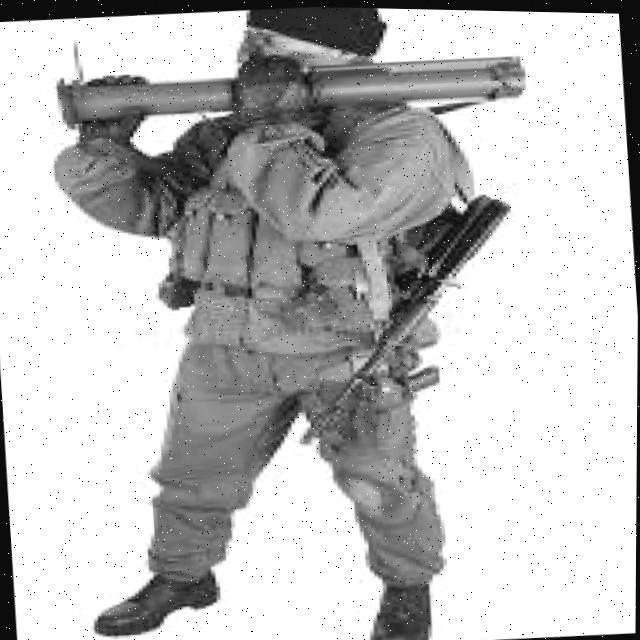rocket: (48, 41, 528, 154)
